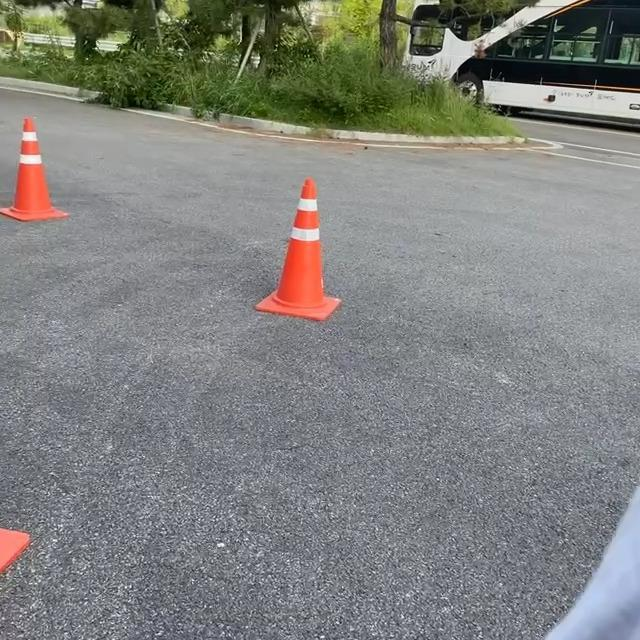fallen_object: (209, 202, 370, 325), (10, 119, 83, 239), (0, 477, 46, 606)
